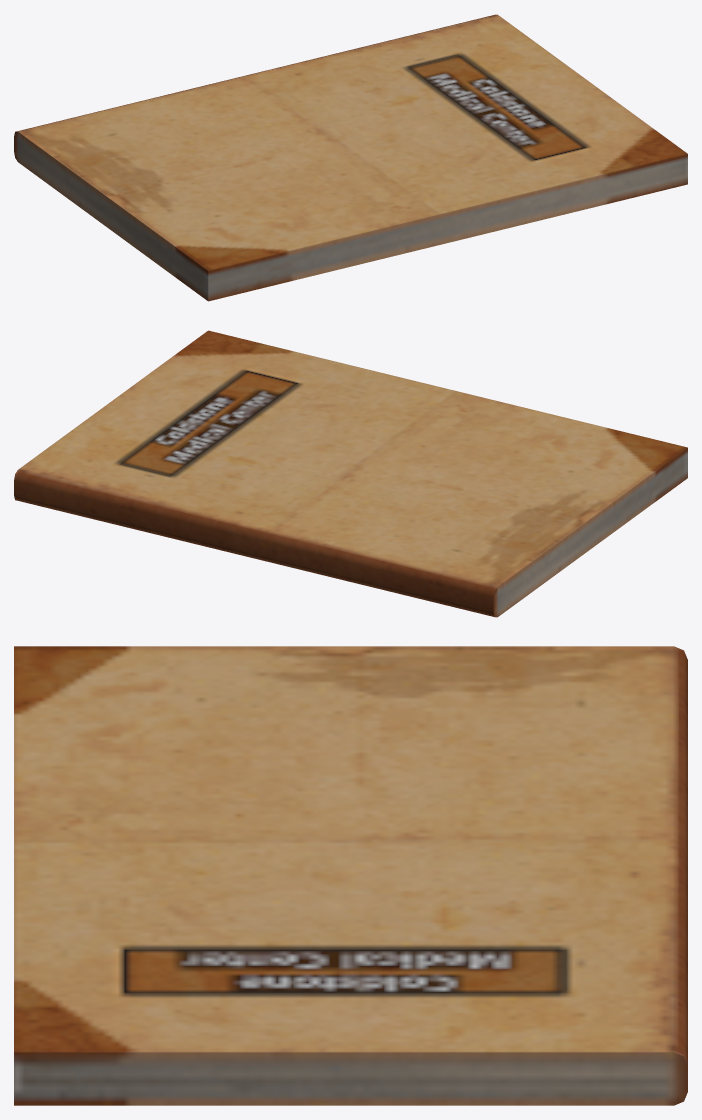
The model's file is HH_Hospital_Journal_02.fbx.
3 views of the same model, one above another, from view 1: azimuth 30°, elevation 25°; view 2: azimuth 150°, elevation 25°; view 3: azimuth 270°, elevation 25° (orthographic). The views are drawn at different scales.
Parts seen in each view (by area): view 1: HH_Hospital_Journal_02; view 2: HH_Hospital_Journal_02; view 3: HH_Hospital_Journal_02.
Boxes of the visible parts, bbox=[...] form: HH_Hospital_Journal_02: bbox=[14, 14, 687, 301]; HH_Hospital_Journal_02: bbox=[14, 330, 687, 617]; HH_Hospital_Journal_02: bbox=[14, 646, 687, 1105].
Size of the model in its own units: 46.94 by 2.86 by 32.93.
